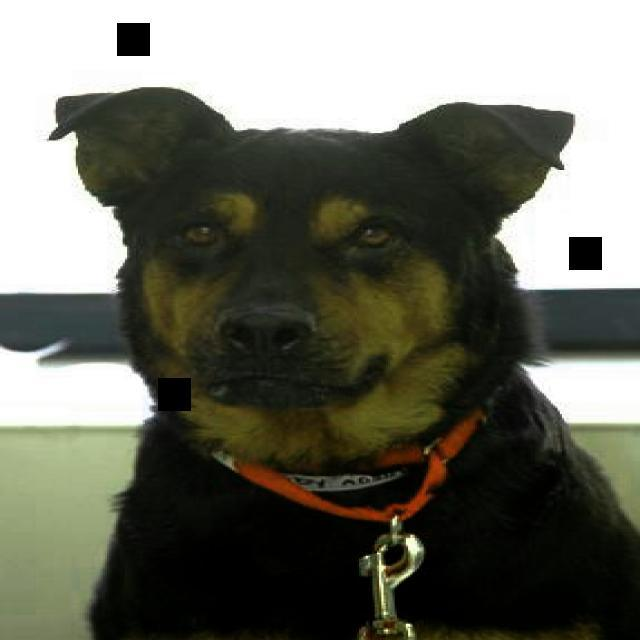adult_dog: (42, 82, 640, 637)
